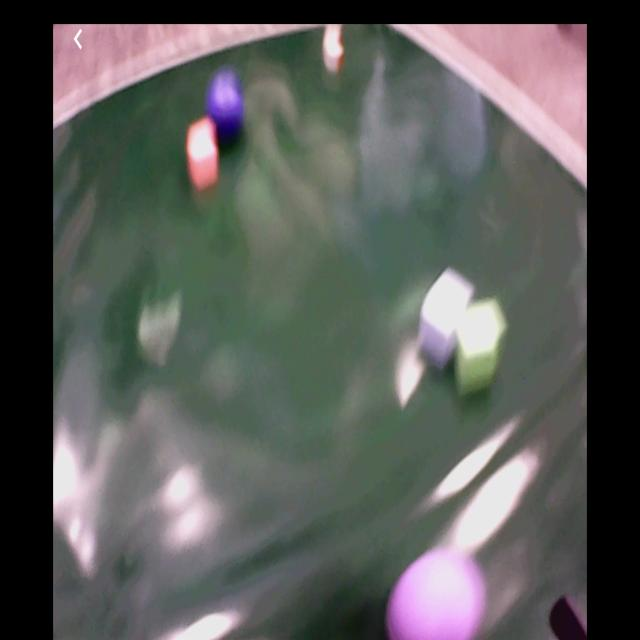ball: (389, 552, 482, 640), (209, 75, 243, 137)
